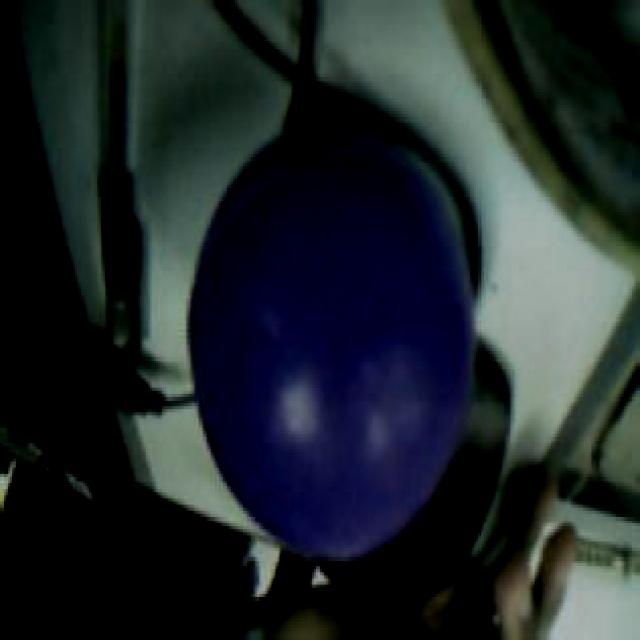BallPurple: (187, 117, 474, 558)
